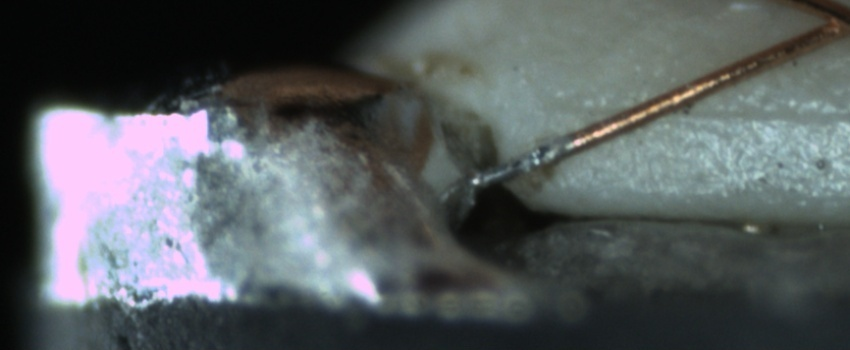CL: (803, 3, 850, 44)
DL: (572, 79, 847, 144)
TS: (459, 135, 574, 194)
TTCW: (467, 125, 593, 188)
